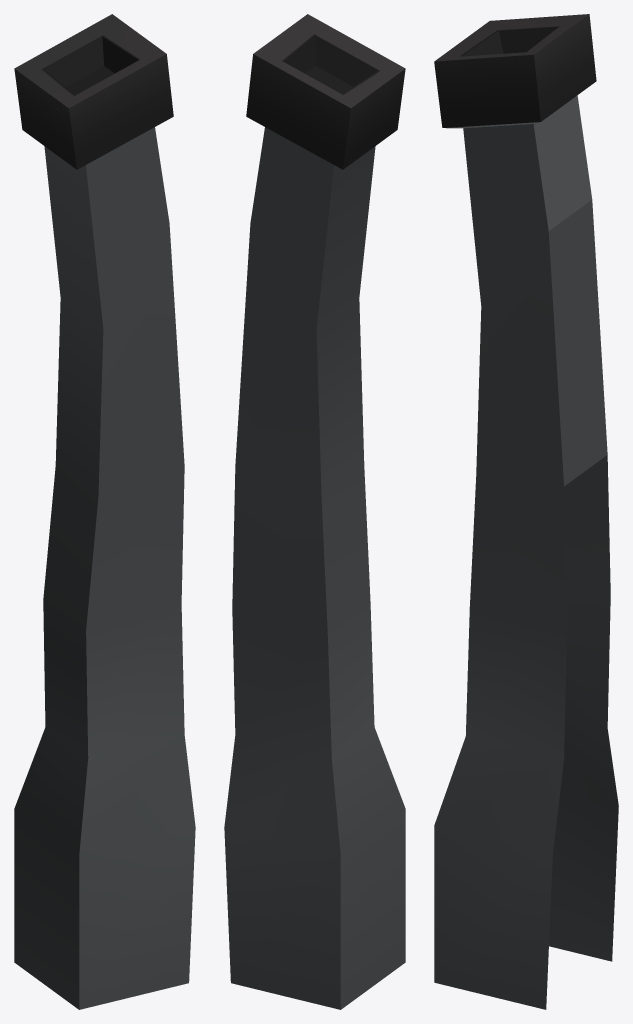
The model's file is fanasty_mod_lar_chimney02.fbx.
The picture shows the model from 3 angles, left to right: view 1: azimuth 30°, elevation 25°; view 2: azimuth 150°, elevation 25°; view 3: azimuth 330°, elevation 25°; orthographic projection.
Parts seen in each view (by area): view 1: large_chimney_02; view 2: large_chimney_02; view 3: large_chimney_02.
Boxes of the visible parts, box(x1,y1,x2,y2) form: large_chimney_02: box(14, 14, 195, 1009); large_chimney_02: box(224, 14, 405, 1009); large_chimney_02: box(434, 14, 618, 1009).
Bounding box in the file's own units: 1.7 × 12.44 × 1.57.
